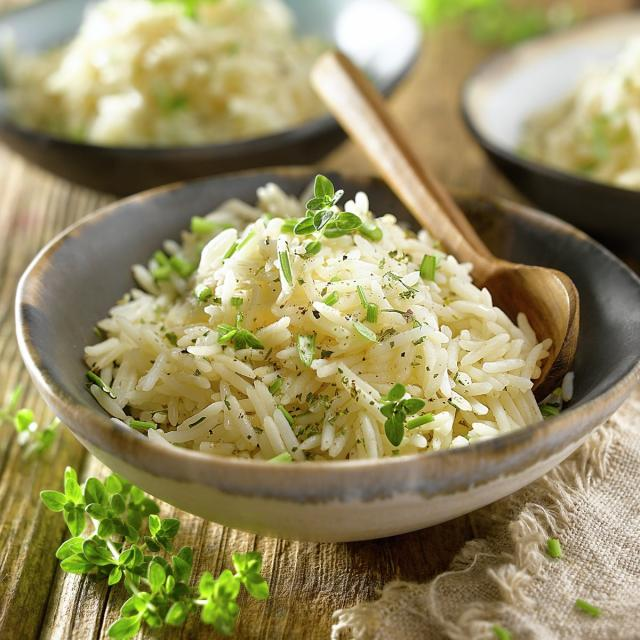arroz: (74, 178, 597, 494)
